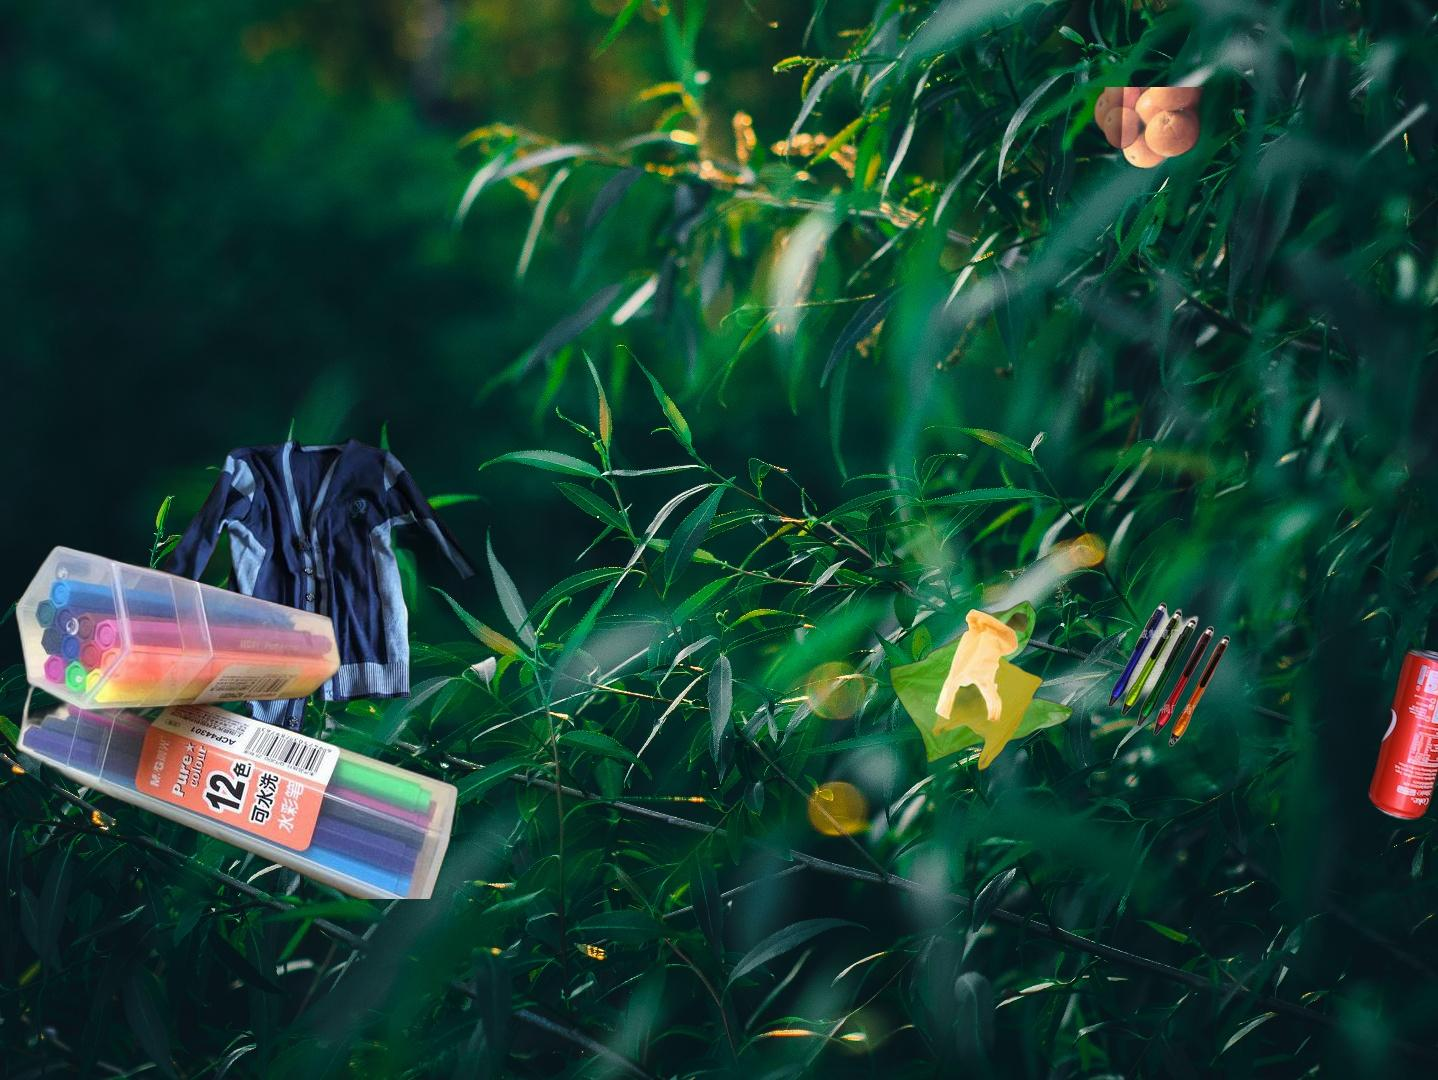clothes: (132, 434, 532, 736)
metal-cans: (1363, 643, 1438, 827)
paper: (746, 87, 1258, 471)
penholder: (12, 541, 463, 898), (1105, 600, 1240, 750)
plastic-bag: (886, 598, 1076, 774)
trashbox-cardboard: (1432, 558, 1438, 894)
